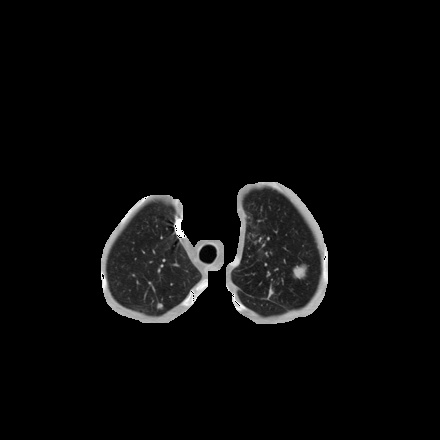PN: (291, 263, 307, 279)
